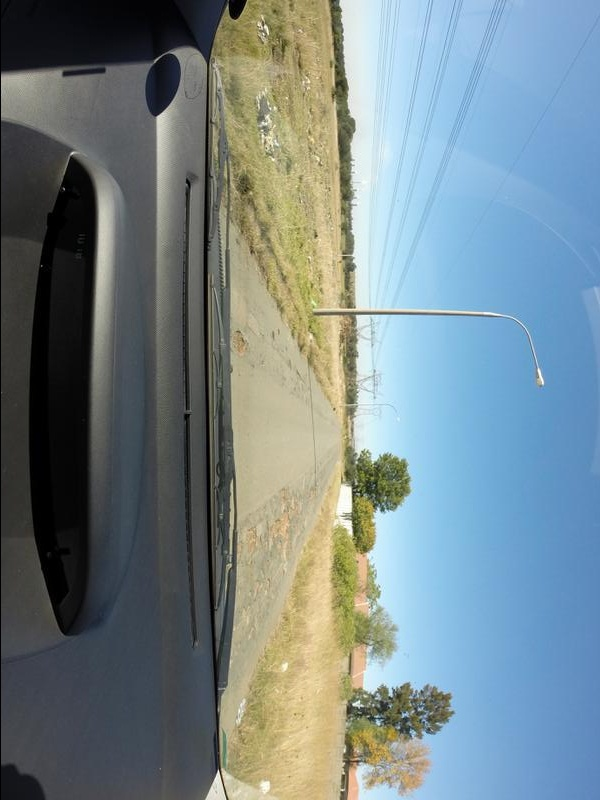pothole: (276, 480, 302, 541), (232, 325, 251, 368), (245, 519, 261, 566), (244, 580, 269, 602), (231, 615, 257, 629)
